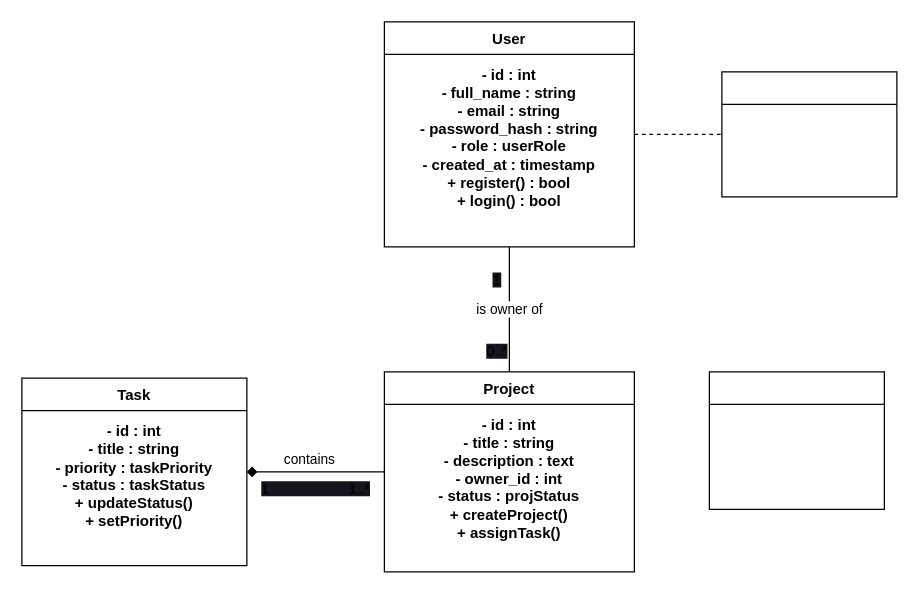
This 919x594 diagram has some shape labels left out. The box of each missing label's shape, as (x1, y1, x2, y2) in pixels:
«enumeration» projStatus + planned + active + completed + on_hold: (708, 371, 884, 509)
«enumeration» userRole + admin + manager + collaborator: (721, 71, 897, 197)
